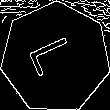L_NE: (27, 33, 84, 82)
